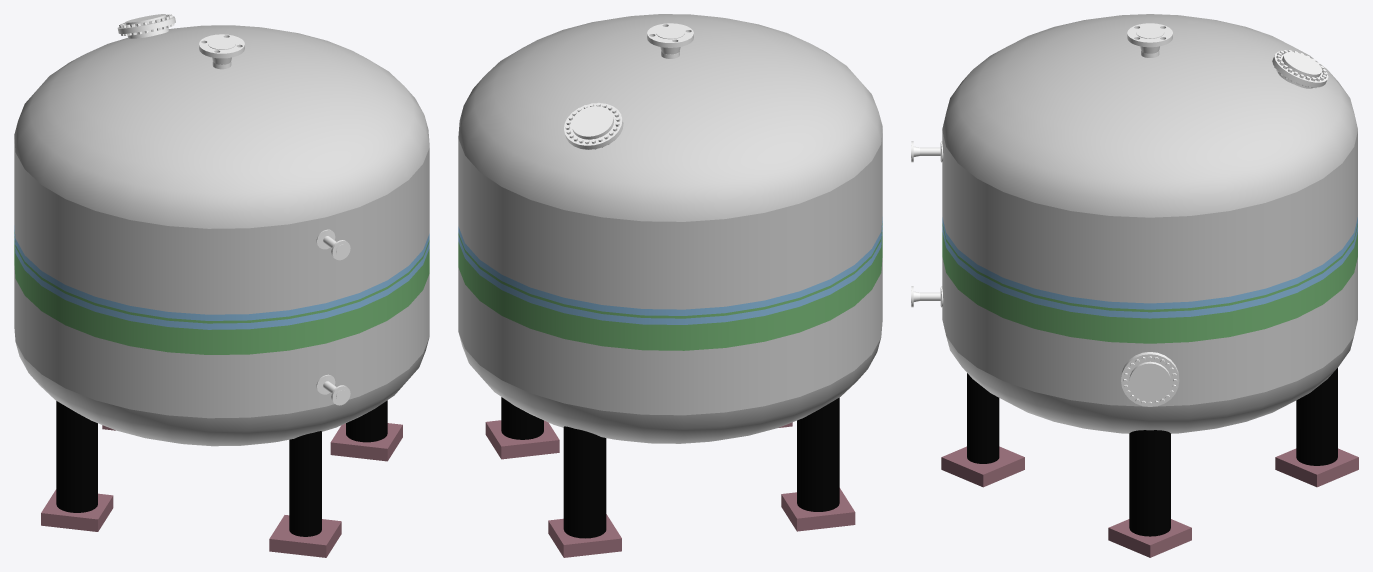
Rendered from CM01-FC-Pequeño.glb.
The picture shows the model from 3 angles, left to right: view 1: azimuth 30°, elevation 25°; view 2: azimuth 150°, elevation 25°; view 3: azimuth 270°, elevation 25°; orthographic projection. The views are drawn at different scales.
Visible parts, largest first — view 1: 3DGeom-2 (×2), 3DGeom-12, 3DGeom-13, 3DGeom-14, 3DGeom-28, 3DGeom-8, 3DGeom-27, 3DGeom-5, 3DGeom-11, 3DGeom-18, 3DGeom-16, 3DGeom-6; view 2: 3DGeom-2 (×2), 3DGeom-12, 3DGeom-13, 3DGeom-14, 3DGeom-4, 3DGeom-28, 3DGeom-6, 3DGeom-5, 3DGeom-11, 3DGeom-9, 3DGeom-18, 3DGeom-16; view 3: 3DGeom-2 (×2), 3DGeom-12, 3DGeom-13, 3DGeom-14, 3DGeom-18, 3DGeom-4, 3DGeom-7, 3DGeom-8, 3DGeom-27, 3DGeom-11, 3DGeom-9, 3DGeom-6 (+1 smaller).
Part boxes in pixels (bbox=[...]): 3DGeom-2 (×2): bbox=[14, 25, 429, 446]; 3DGeom-12: bbox=[14, 139, 429, 418]; 3DGeom-13: bbox=[14, 232, 429, 354]; 3DGeom-14: bbox=[14, 225, 429, 329]; 3DGeom-28: bbox=[56, 401, 97, 512]; 3DGeom-8: bbox=[289, 431, 321, 536]; 3DGeom-27: bbox=[269, 515, 341, 557]; 3DGeom-5: bbox=[41, 489, 113, 531]; 3DGeom-11: bbox=[330, 423, 402, 461]; 3DGeom-18: bbox=[346, 400, 387, 442]; 3DGeom-16: bbox=[199, 34, 244, 64]; 3DGeom-6: bbox=[117, 14, 175, 38]; 3DGeom-2 (×2): bbox=[458, 14, 882, 443]; 3DGeom-12: bbox=[458, 129, 882, 415]; 3DGeom-13: bbox=[458, 223, 882, 350]; 3DGeom-14: bbox=[458, 217, 882, 324]; 3DGeom-4: bbox=[563, 426, 606, 538]; 3DGeom-28: bbox=[797, 397, 839, 511]; 3DGeom-6: bbox=[564, 102, 623, 149]; 3DGeom-5: bbox=[781, 488, 855, 531]; 3DGeom-11: bbox=[485, 420, 559, 459]; 3DGeom-9: bbox=[548, 514, 621, 557]; 3DGeom-18: bbox=[501, 397, 543, 439]; 3DGeom-16: bbox=[647, 23, 693, 54]; 3DGeom-2 (×2): bbox=[942, 14, 1357, 433]; 3DGeom-12: bbox=[942, 131, 1357, 406]; 3DGeom-13: bbox=[942, 223, 1357, 343]; 3DGeom-14: bbox=[942, 217, 1357, 318]; 3DGeom-18: bbox=[1129, 430, 1170, 536]; 3DGeom-4: bbox=[1296, 368, 1337, 465]; 3DGeom-7: bbox=[1121, 352, 1179, 406]; 3DGeom-8: bbox=[967, 373, 999, 463]; 3DGeom-27: bbox=[941, 446, 1024, 487]; 3DGeom-11: bbox=[1108, 519, 1191, 557]; 3DGeom-9: bbox=[1275, 448, 1358, 487]; 3DGeom-6: bbox=[1272, 50, 1328, 88].
Size of the model in its own units: 3.12 by 3.47 by 3.22.
